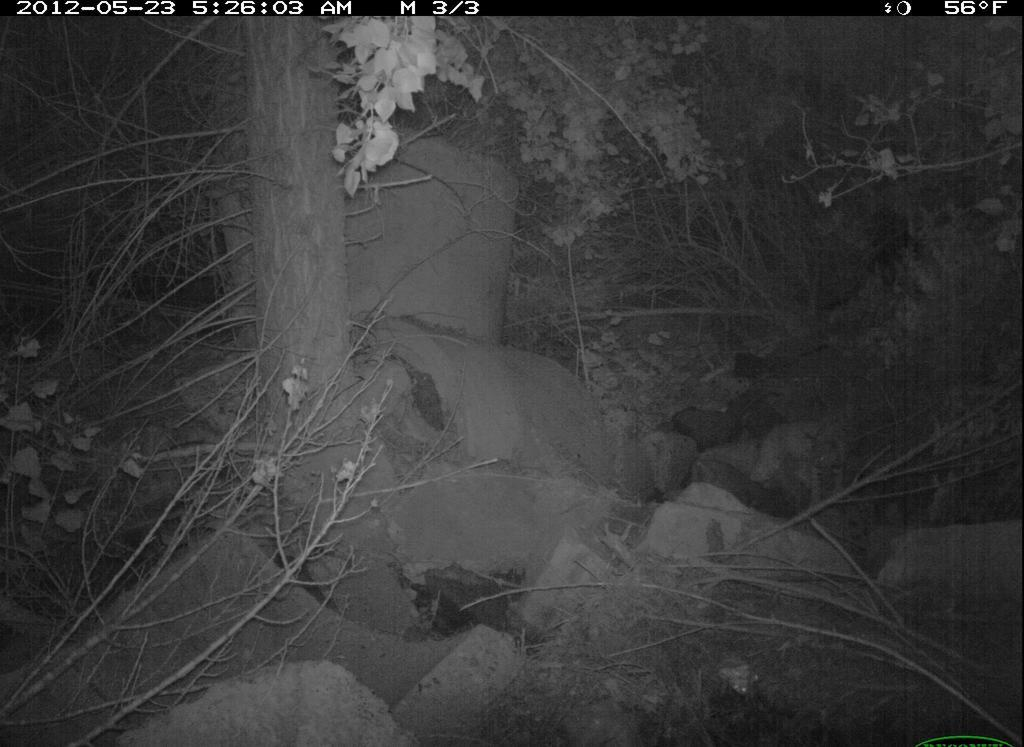bobcat: (742, 405, 849, 511)
